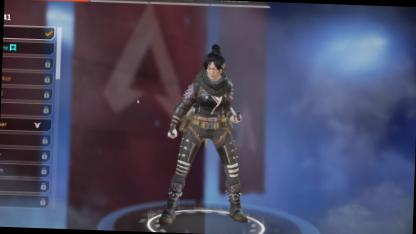Target: (180, 43, 238, 184)
